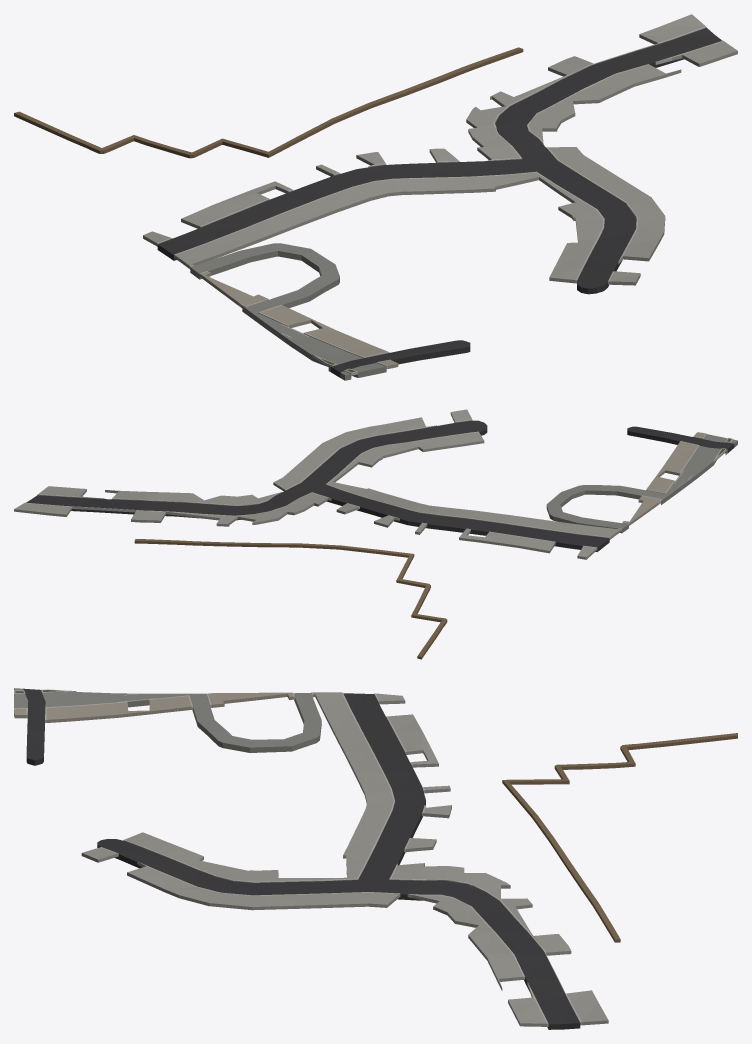
The model's file is 18-218884-118928.b6deb15b.glb.
3 renders of one model, top to bottom at view 1: azimuth 30°, elevation 25°; view 2: azimuth 150°, elevation 25°; view 3: azimuth 270°, elevation 25°, orthographic. The views are drawn at different scales.
Bounding box in the file's own units: 147 × 7.67 × 146.
